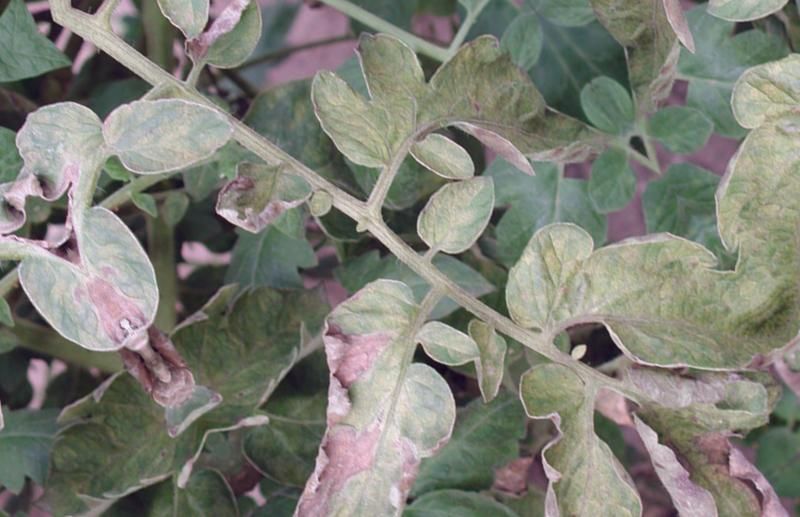Tomato mold leaf: (470, 148, 798, 484), (191, 259, 530, 517), (0, 79, 257, 398), (406, 343, 701, 517), (84, 46, 253, 214), (390, 148, 520, 274), (198, 134, 325, 256), (391, 104, 487, 205), (125, 0, 251, 48)
